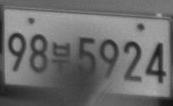2: (122, 40, 142, 81)
4: (144, 41, 167, 84)
5: (77, 37, 96, 74)
8: (28, 32, 49, 73)
9: (6, 31, 27, 71), (98, 38, 119, 78)
부: (51, 40, 72, 75)
